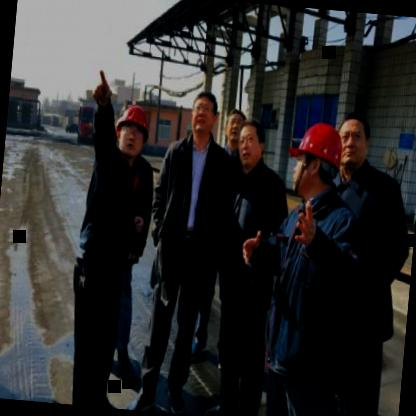head: (333, 107, 378, 177), (232, 118, 270, 169), (188, 88, 220, 148), (224, 108, 245, 148)
helmet: (286, 114, 350, 204), (110, 97, 155, 164)
